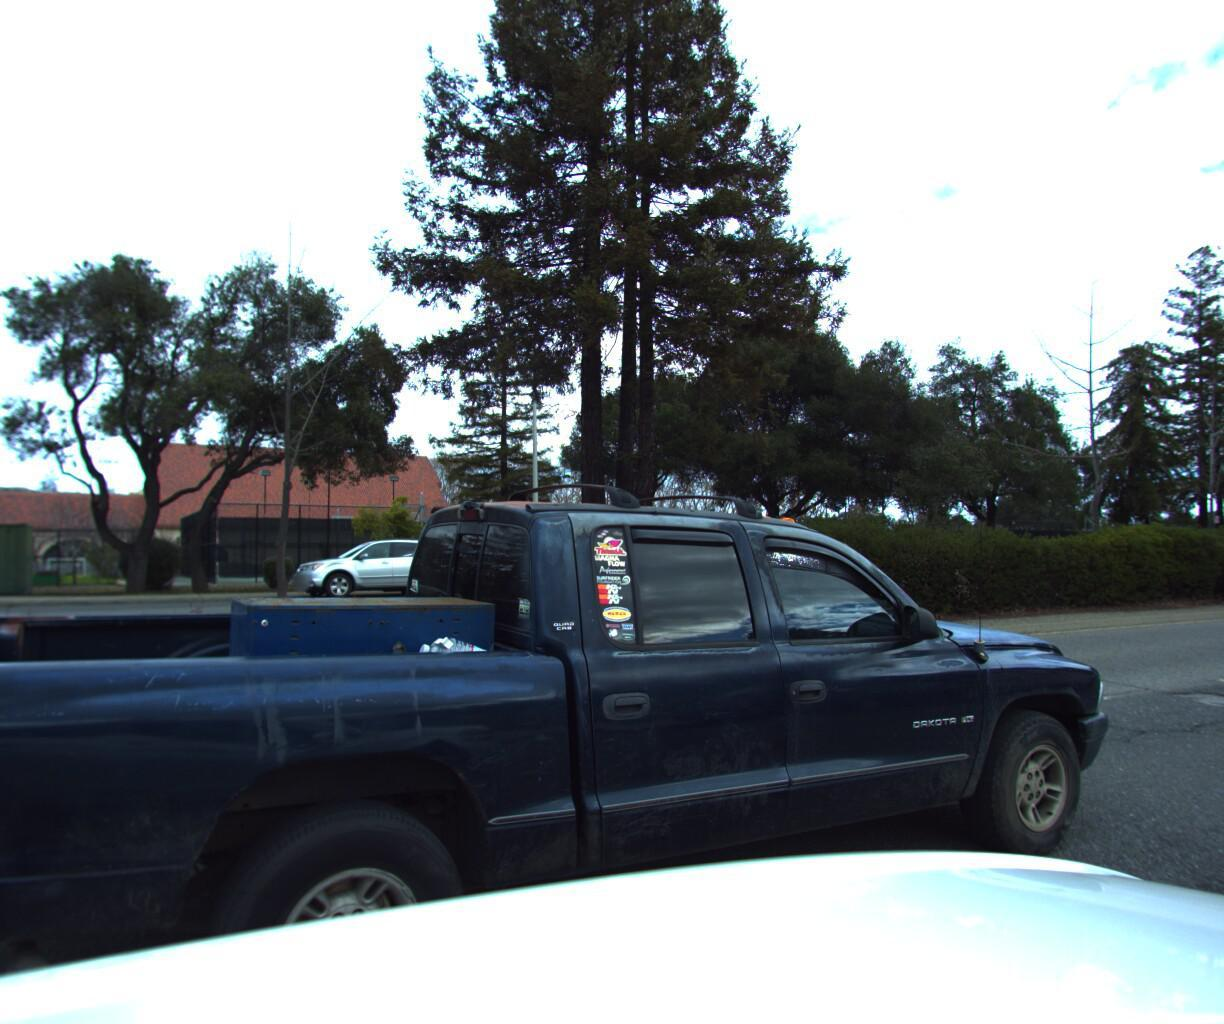car: (0, 440, 1173, 1024), (283, 537, 467, 606)
